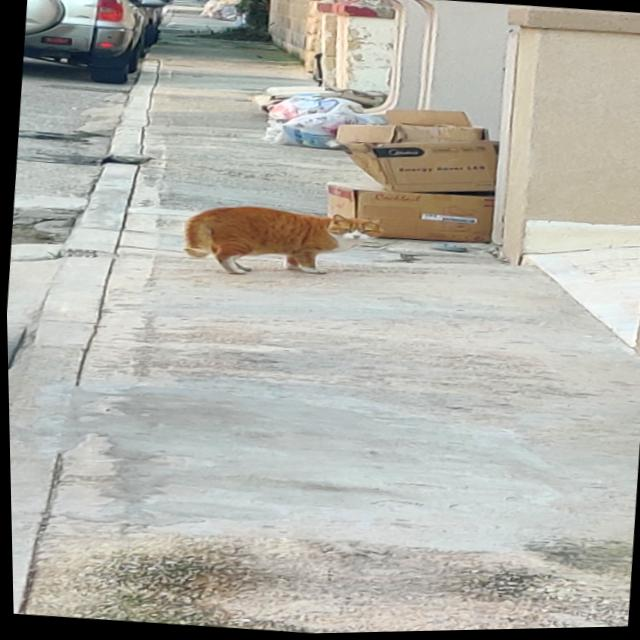Others Waste: (325, 110, 496, 245)
Recyclable Material -Grey Bags-: (252, 84, 383, 152)
